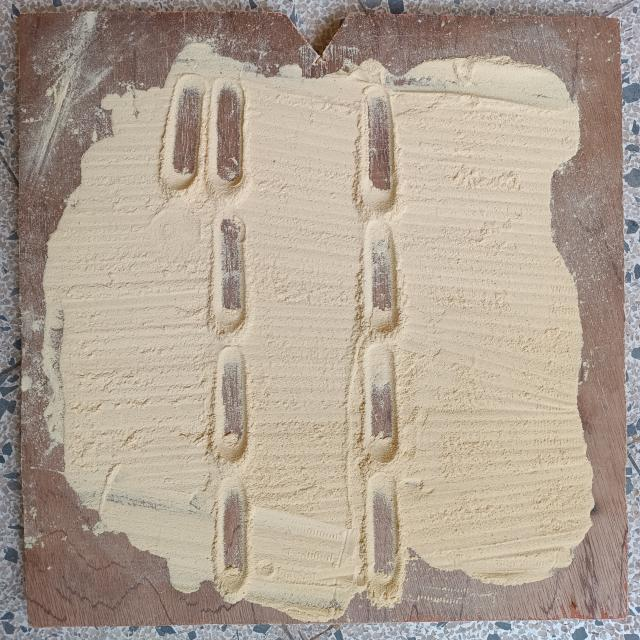double: (158, 72, 249, 206)
single: (354, 470, 409, 610), (350, 81, 403, 218), (352, 336, 405, 469), (358, 220, 404, 344), (210, 342, 254, 468), (210, 208, 250, 342), (212, 467, 251, 603)
